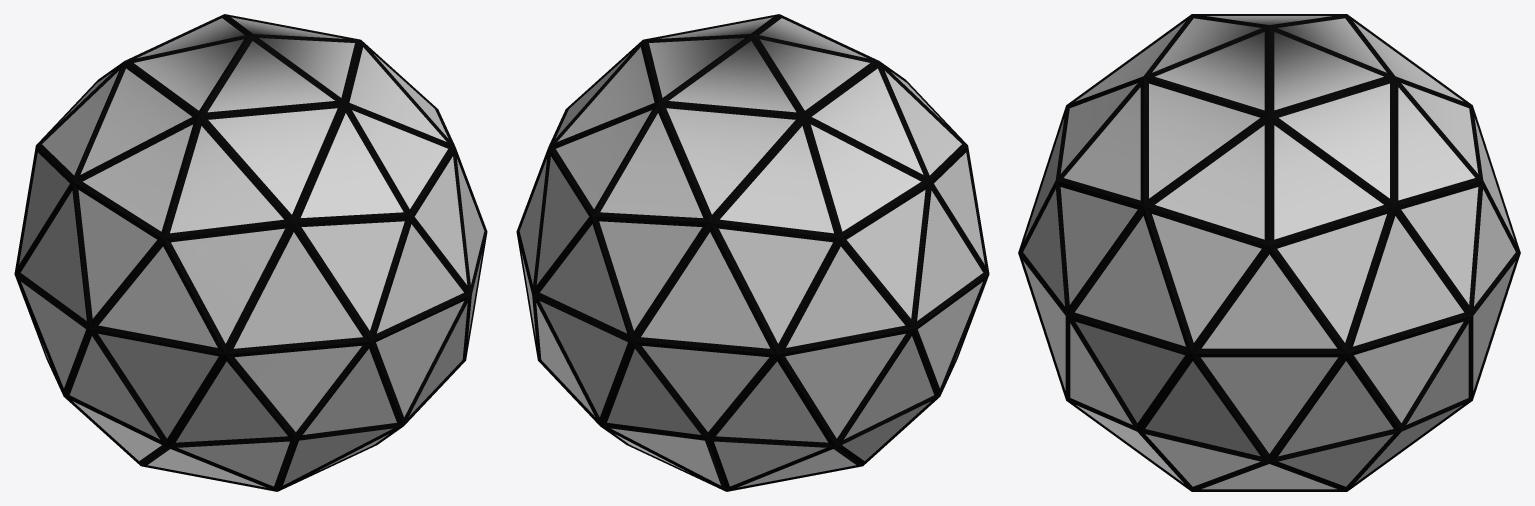
3 views of the same model, side by side, from view 1: azimuth 30°, elevation 25°; view 2: azimuth 150°, elevation 25°; view 3: azimuth 270°, elevation 25° (orthographic). The views are drawn at different scales.
Parts seen in each view (by area): view 1: Icosphere.001; view 2: Icosphere.001; view 3: Icosphere.001.
Part boxes in pixels (bbox=[...]): Icosphere.001: bbox=[14, 14, 487, 491]; Icosphere.001: bbox=[516, 14, 989, 491]; Icosphere.001: bbox=[1018, 14, 1520, 491].
Bounding box in the file's own units: 1.9 × 2 × 2.
1 material, 1 textured.
